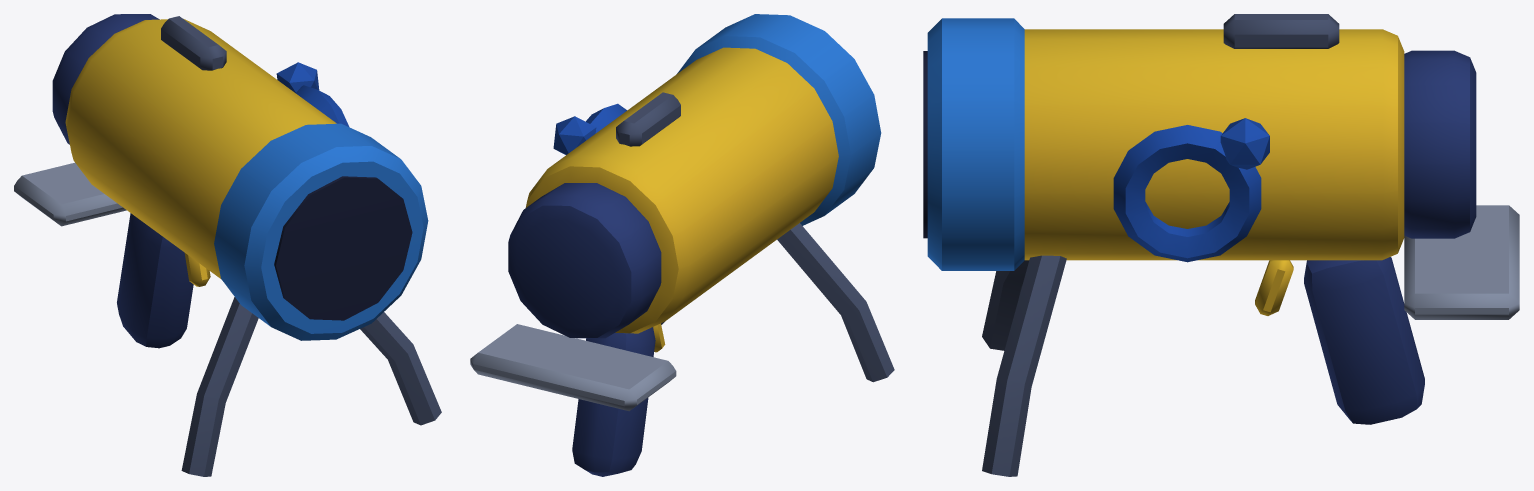
File: w_j_mortar.glb
The picture shows the model from 3 angles, left to right: view 1: azimuth 30°, elevation 25°; view 2: azimuth 150°, elevation 25°; view 3: azimuth 270°, elevation 25°; orthographic projection. The views are drawn at different scales.
Parts seen in each view (by area): view 1: body; view 2: body; view 3: body.
Boxes of the visible parts, left/top/right/bottom form: body: left=14, top=14, right=441, bottom=476; body: left=470, top=14, right=894, bottom=476; body: left=923, top=14, right=1519, bottom=476.
Size of the model in its own units: 0.3849 by 0.4931 by 0.6608.
